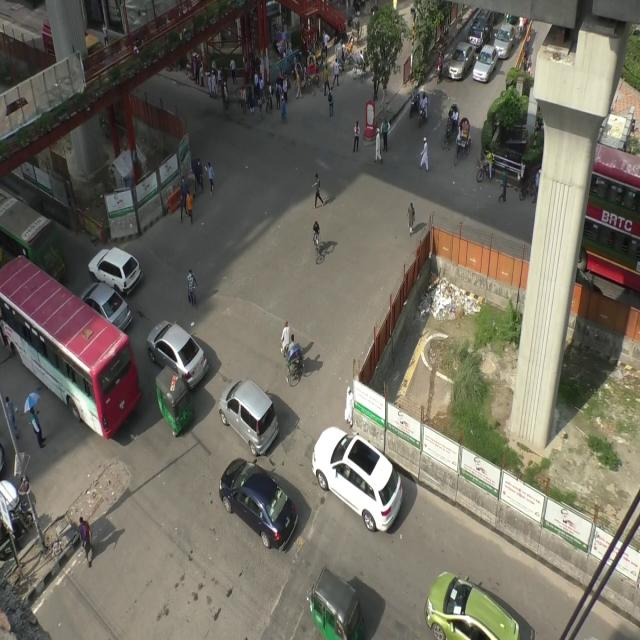cng: (307, 571, 365, 640), (151, 362, 195, 439)
rikshaw: (276, 313, 306, 387), (442, 102, 462, 150), (454, 115, 473, 161), (332, 40, 355, 75), (305, 51, 321, 92), (292, 59, 310, 95), (354, 48, 373, 80)
